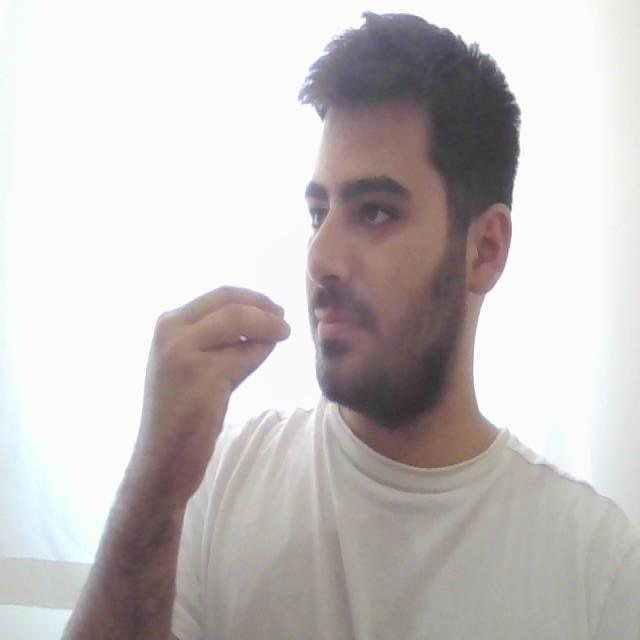Yemek: (158, 286, 368, 380)
